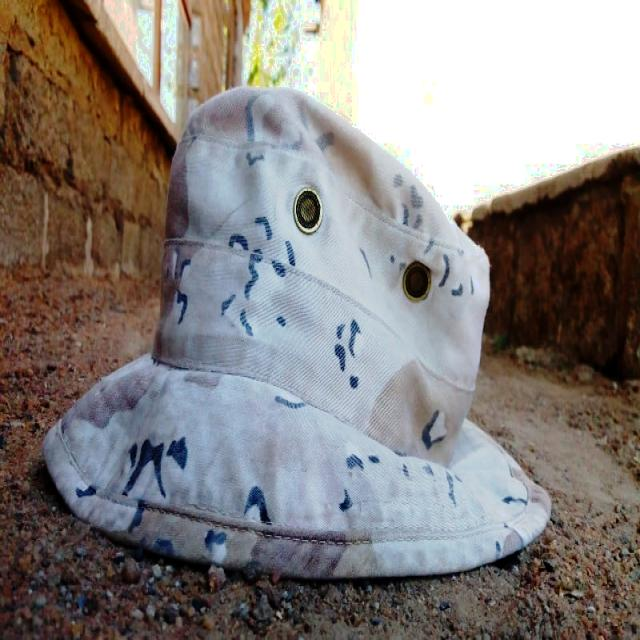TOPI: (38, 78, 556, 588)
